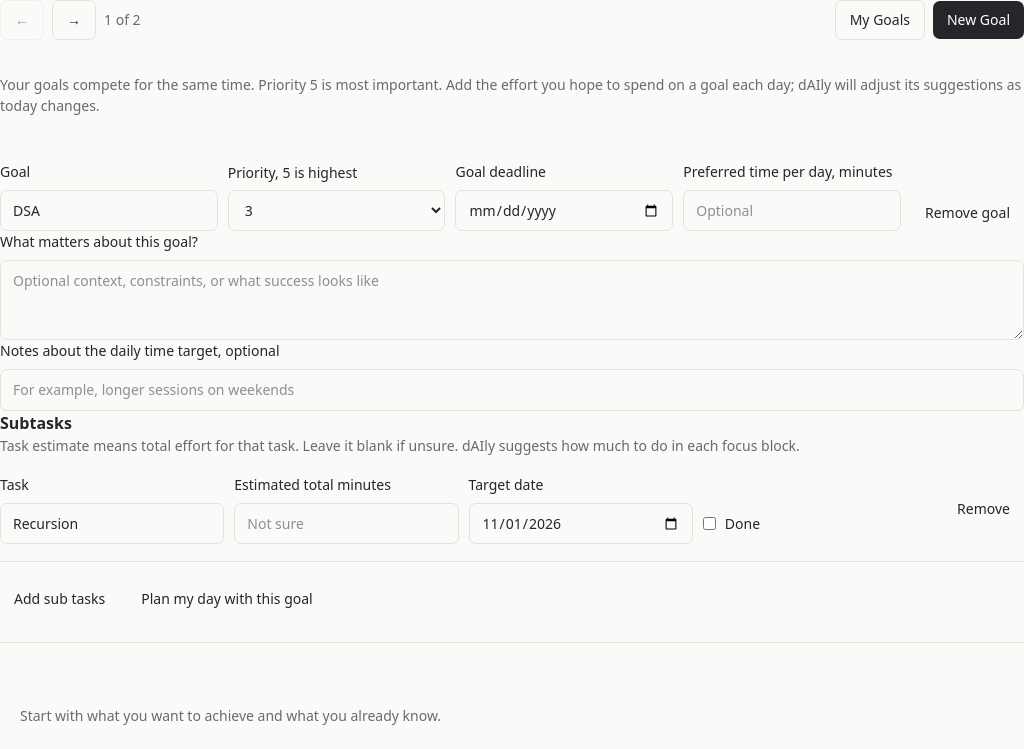
Test: goal and preference interactions › navigates individual goals, expands subtasks, and creates a goal through one modal save
Check: the field labelled "Goal" holds "DSA", box [0,190,218,232]
Check: the button named "Previous goal" is disabled, box [0,0,44,40]
Click the button named "Next goal" at (74, 20), box [52,0,96,40]
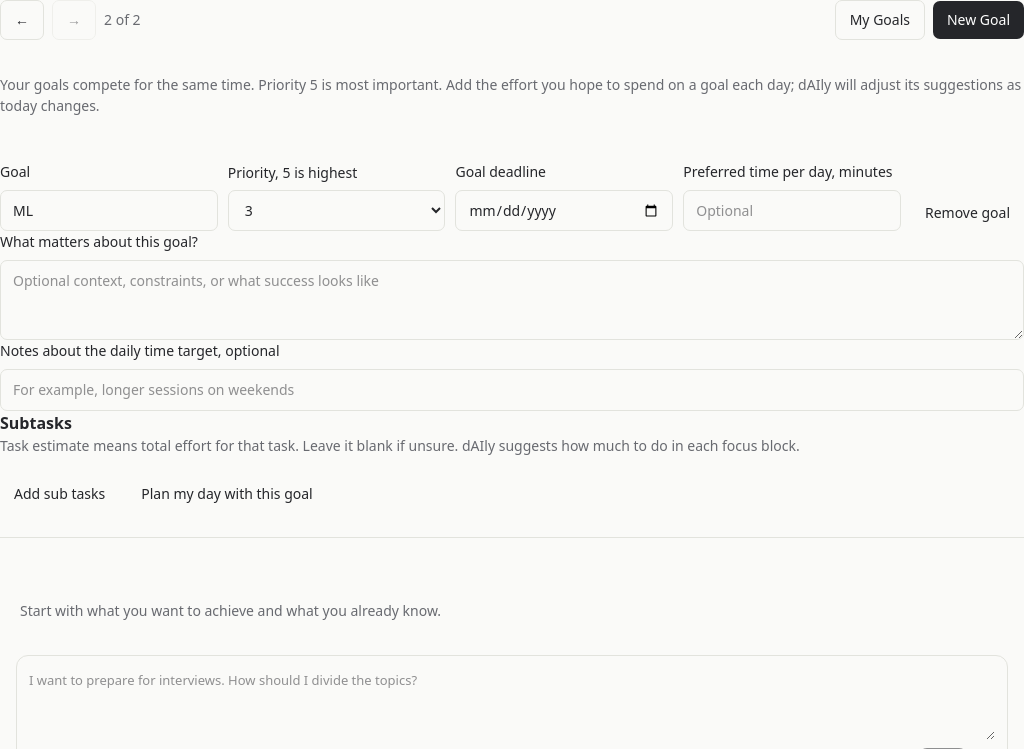
Check: the field labelled "Goal" holds "ML", box [0,190,218,232]
Click the button "My Goals" at (880, 20), box [835,0,925,40]
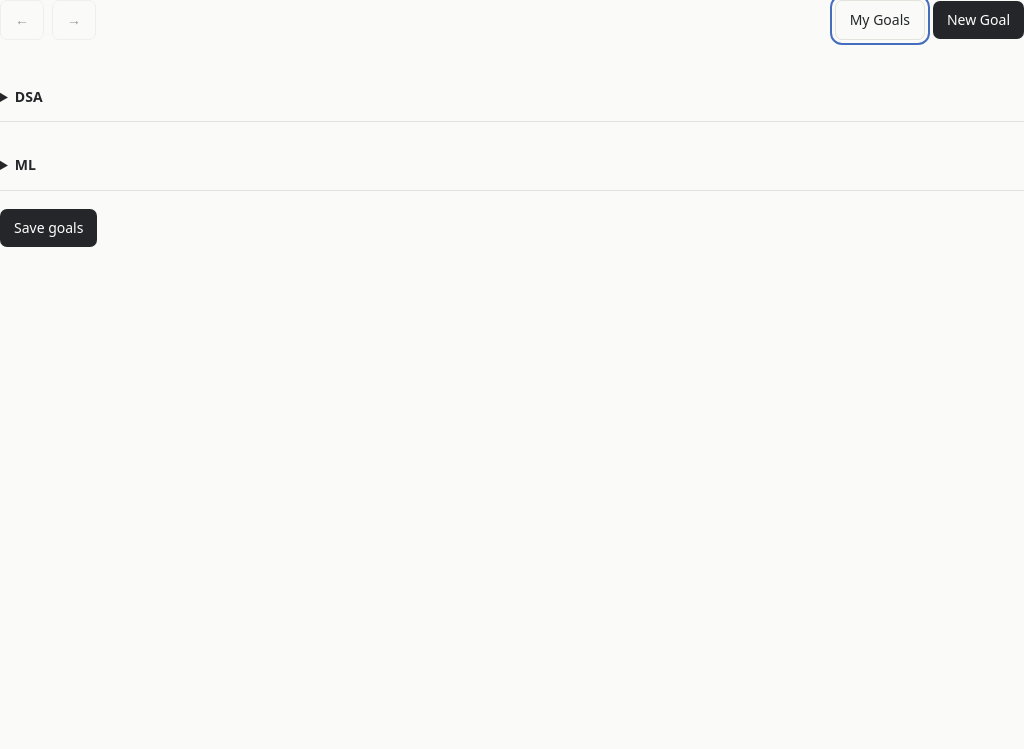
Click the heading "DSA" at (29, 96), box [15,87,42,106]
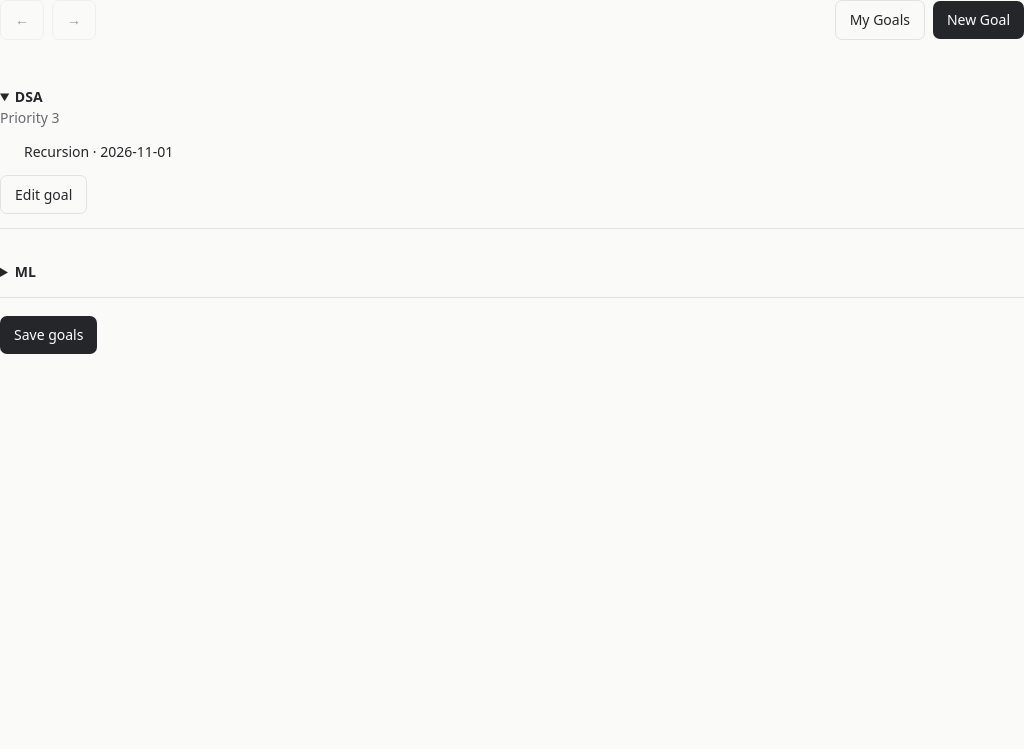
Check: the list item "Recursion · 2026-11-01" is shown, box [24,142,173,161]
Click the button "New Goal" at (978, 20), box [933,1,1023,39]
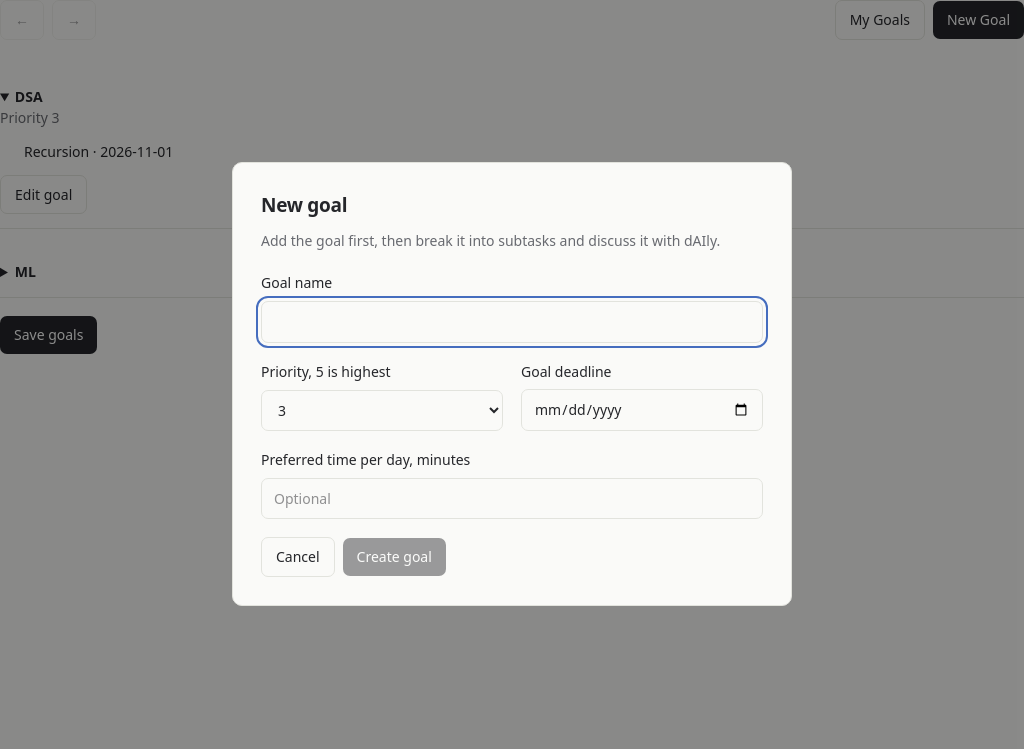
Type "Internships" into the field labelled "Goal name" at (512, 322), box [261,301,763,342]
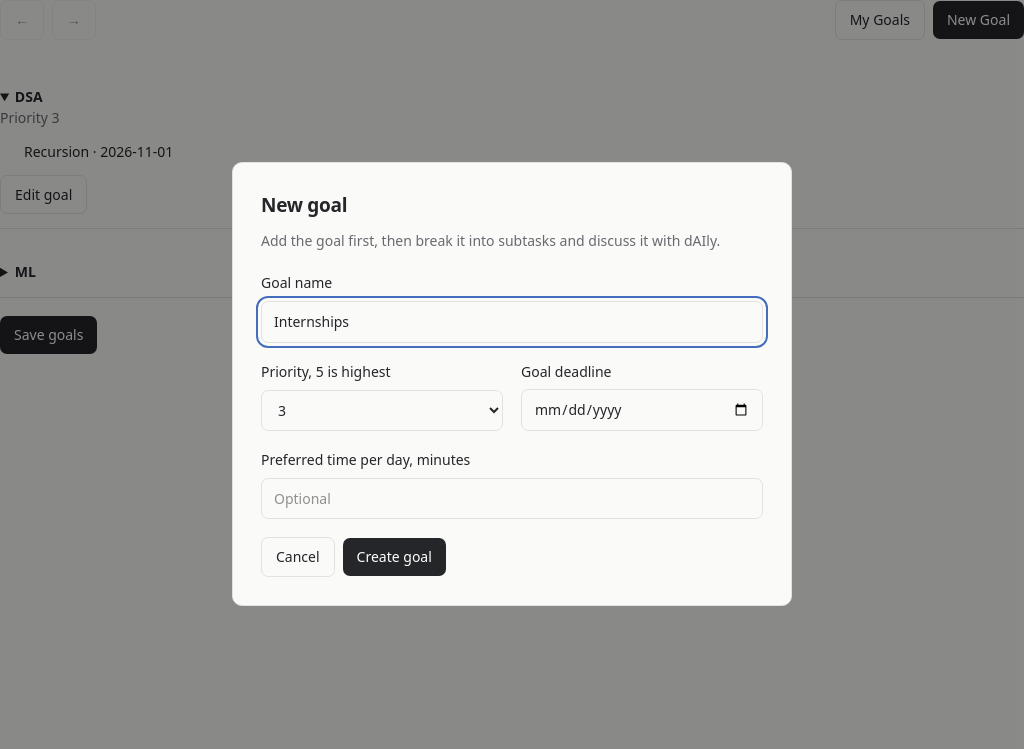
Click the button "Create goal" at (394, 557), box [343,538,446,576]
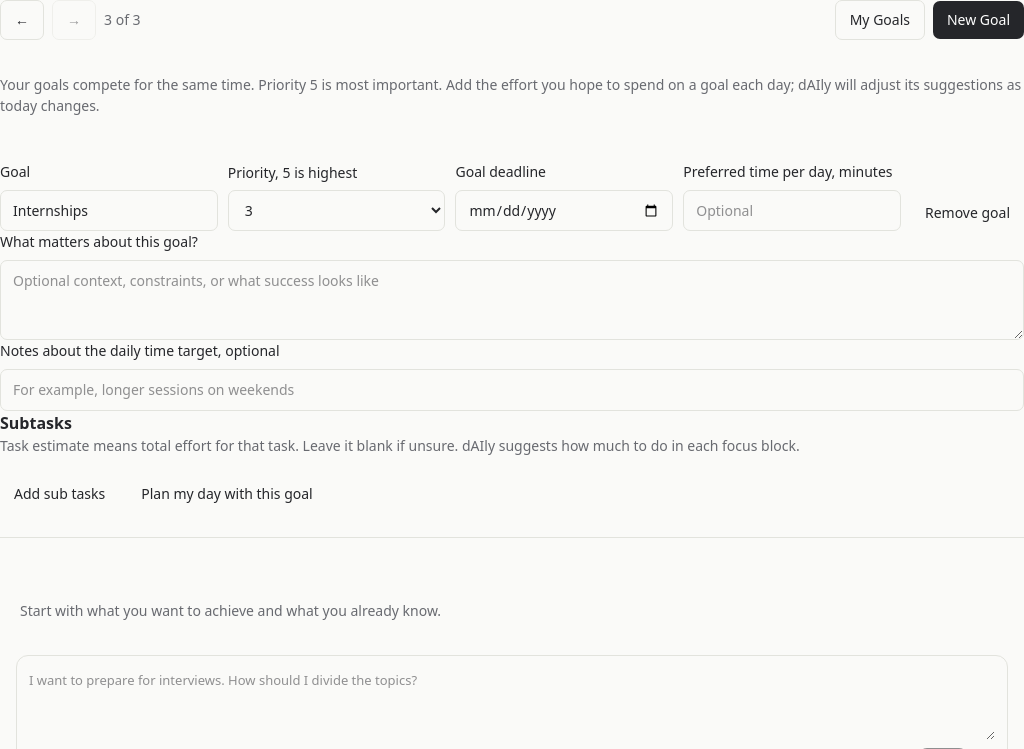
Check: the field labelled "Goal" holds "Internships", box [0,190,218,232]
Check: the dialog is gone
Check: the button "Add sub tasks" is shown, box [0,475,119,513]
